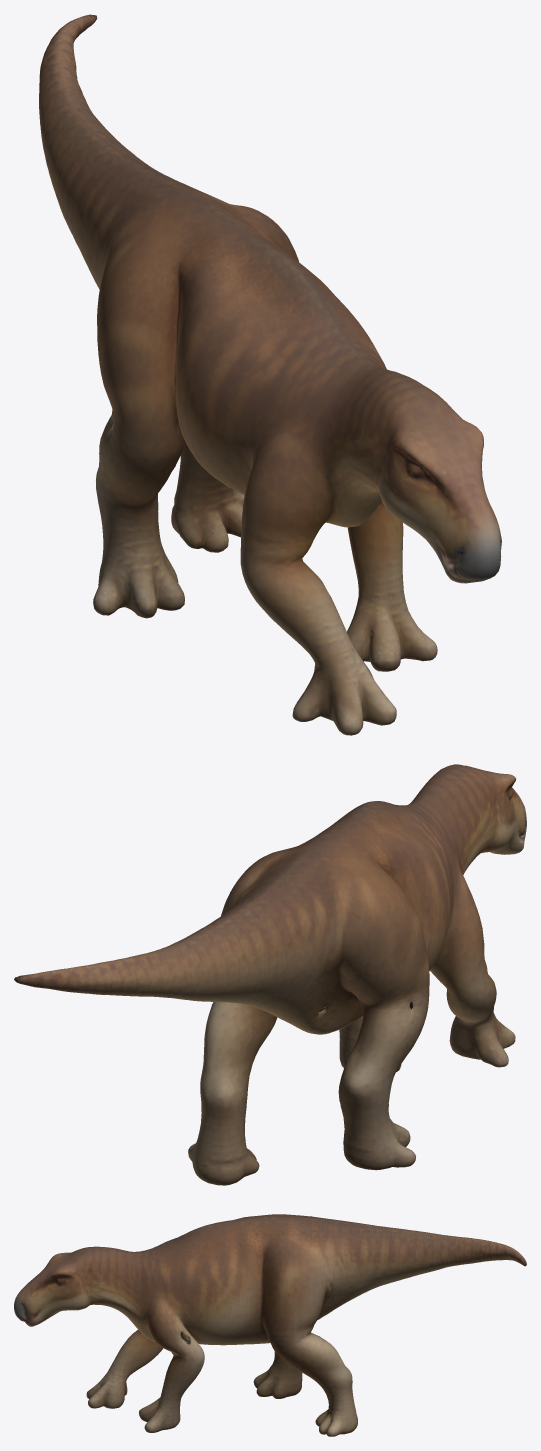
3 renders of one model, top to bottom at view 1: azimuth 30°, elevation 25°; view 2: azimuth 150°, elevation 25°; view 3: azimuth 270°, elevation 25°, orthographic. The views are drawn at different scales.
Parts seen in each view (by area): view 1: world; view 2: world; view 3: world.
Boxes of the visible parts, x1,y1,x2,y2 form: world: (39, 14, 501, 735); world: (14, 764, 526, 1185); world: (14, 1214, 526, 1436).
Size of the model in its own units: 1.84 by 2.75 by 6.5.
1 material, 1 textured.
